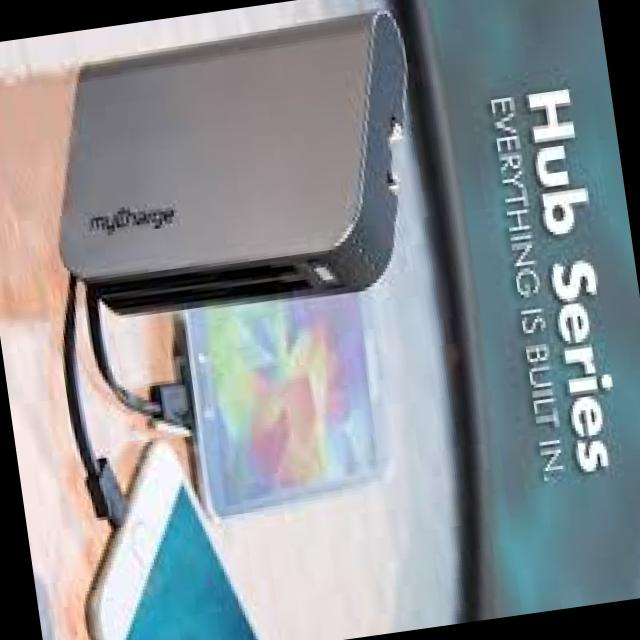power_bank: (26, 9, 440, 338)
